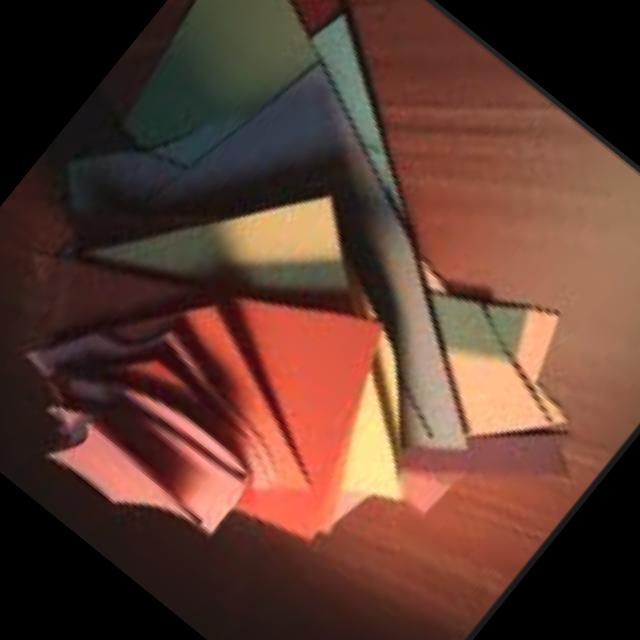KertasBekas: (0, 153, 461, 635)
